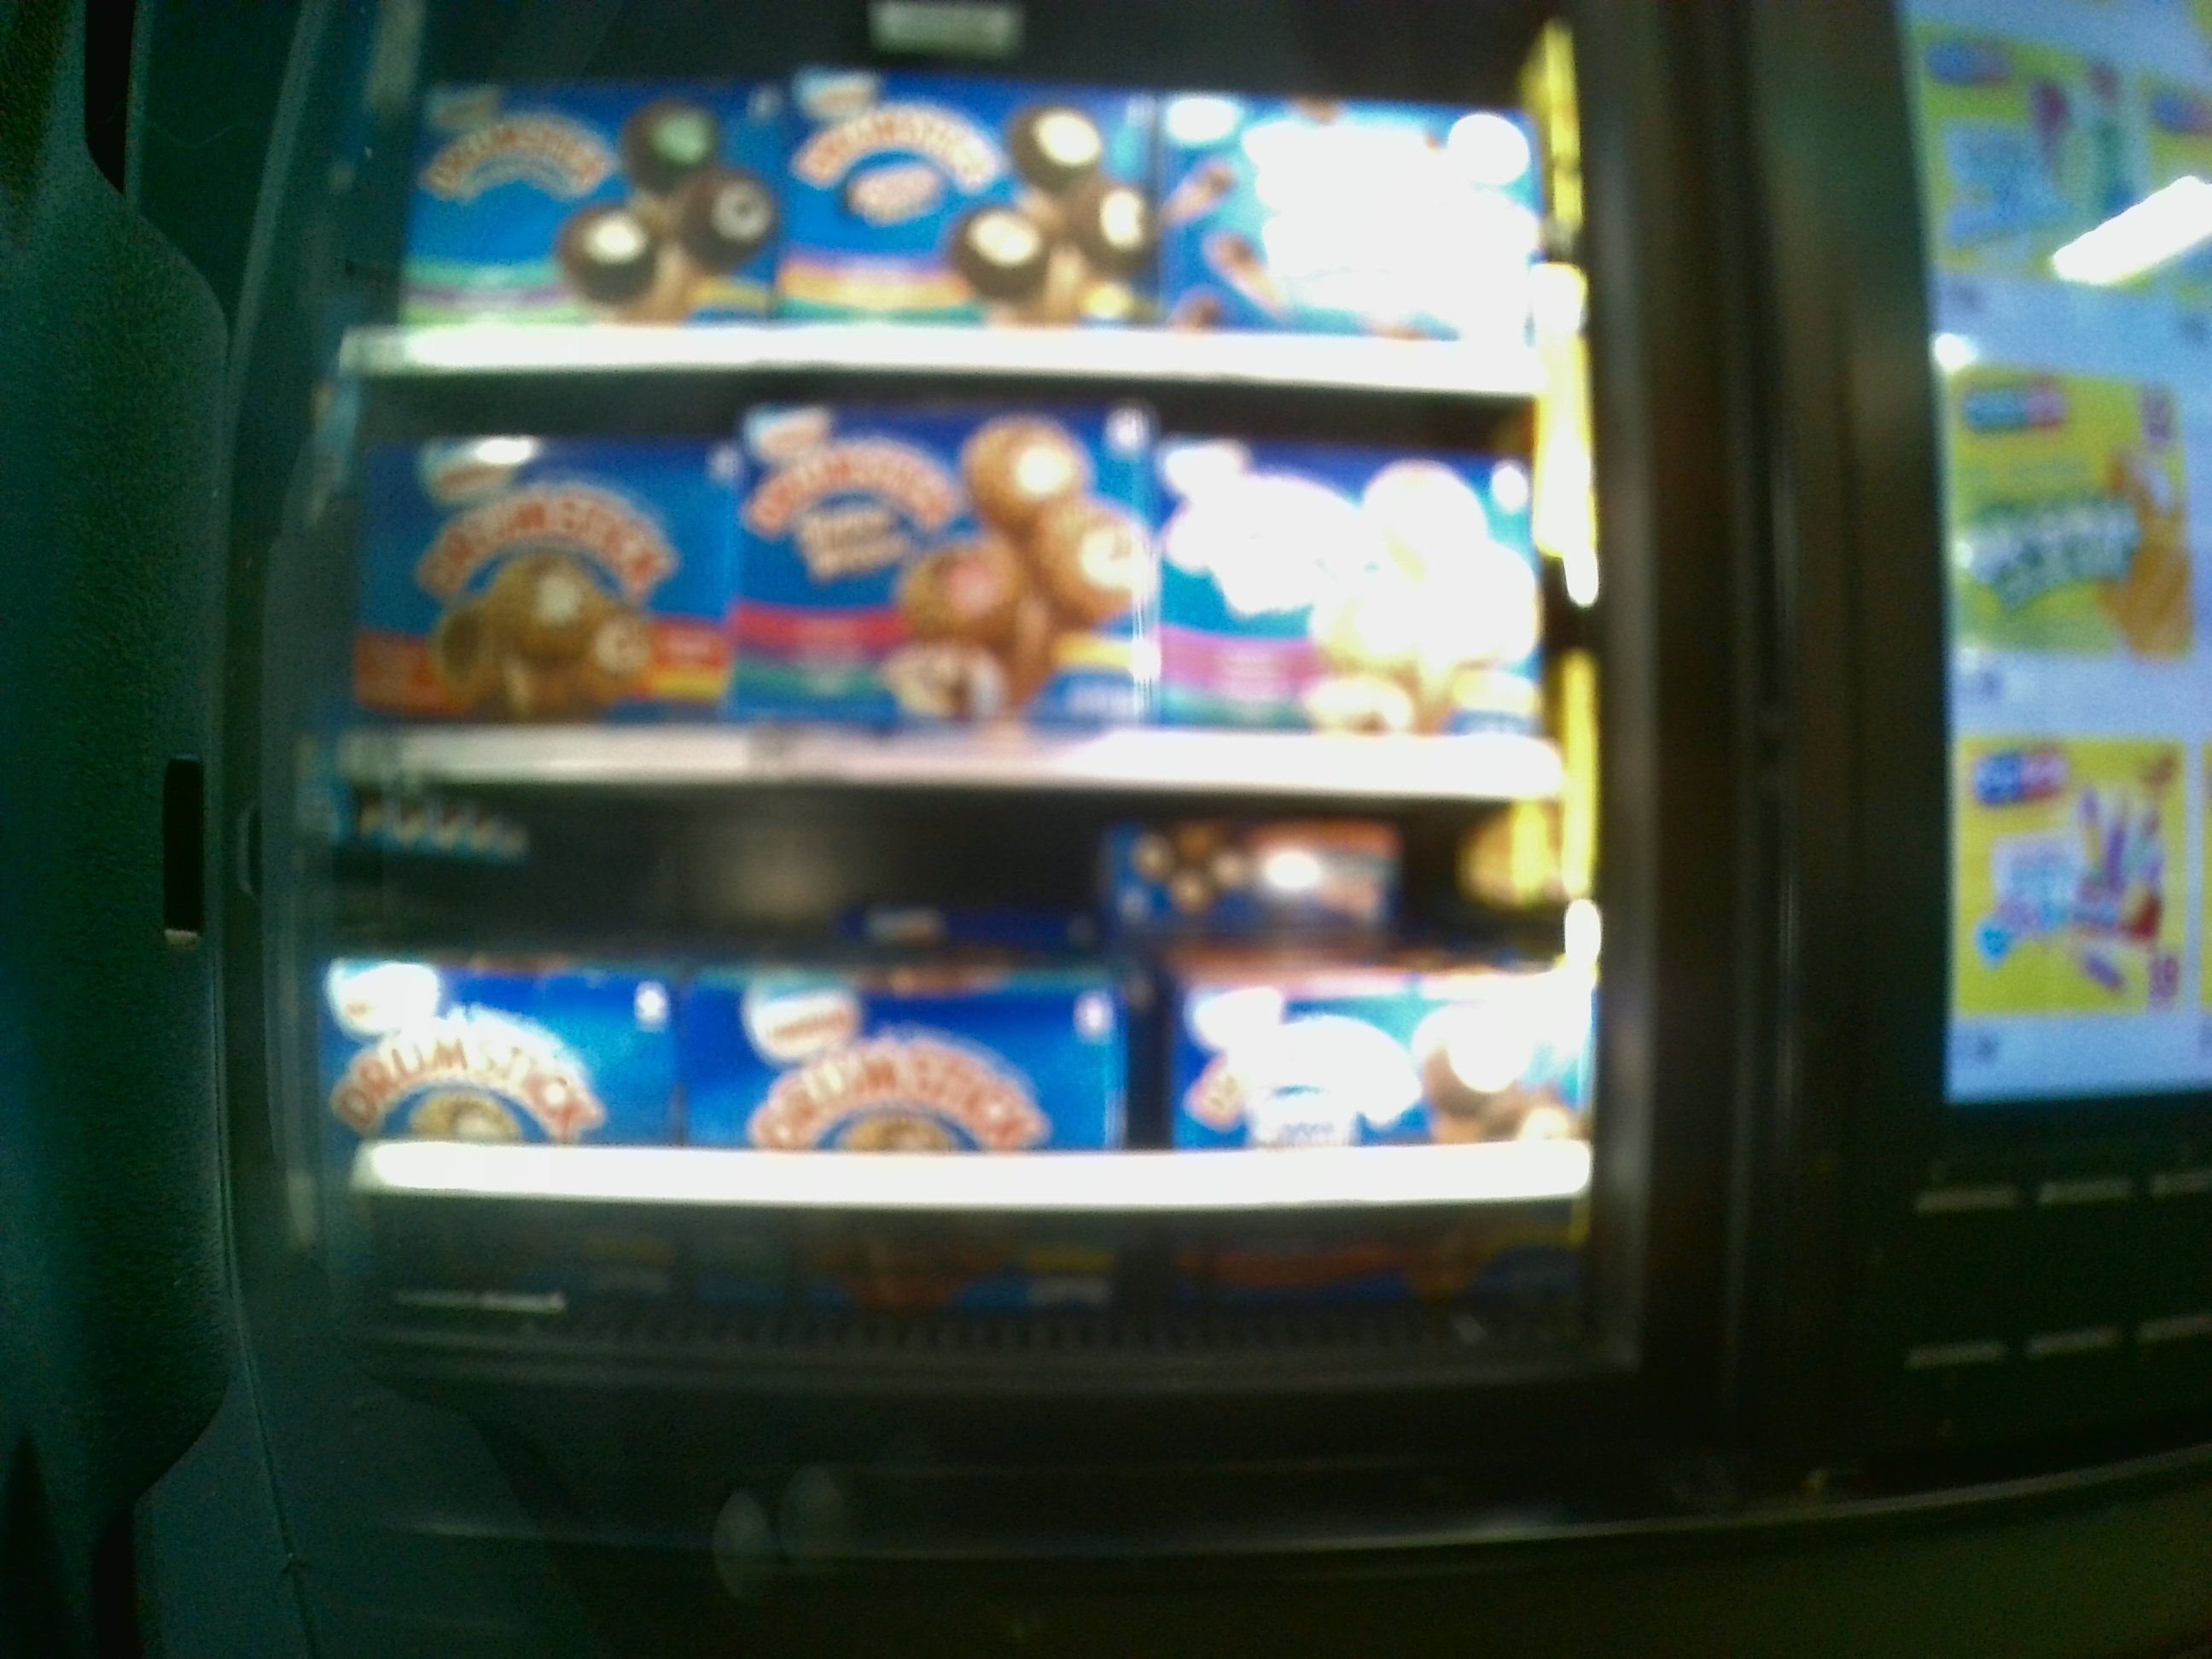shelf: (359, 777, 1601, 1342), (364, 378, 1580, 798)
